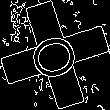O_E: (24, 27, 86, 83)
